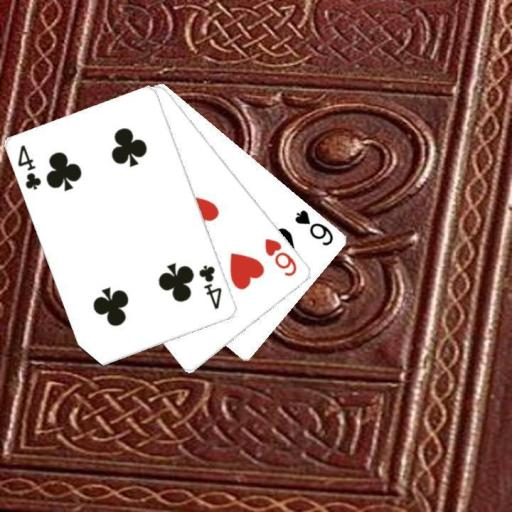card-corner: (292, 206, 336, 248), (262, 235, 299, 278), (196, 262, 224, 312), (15, 142, 43, 192)
